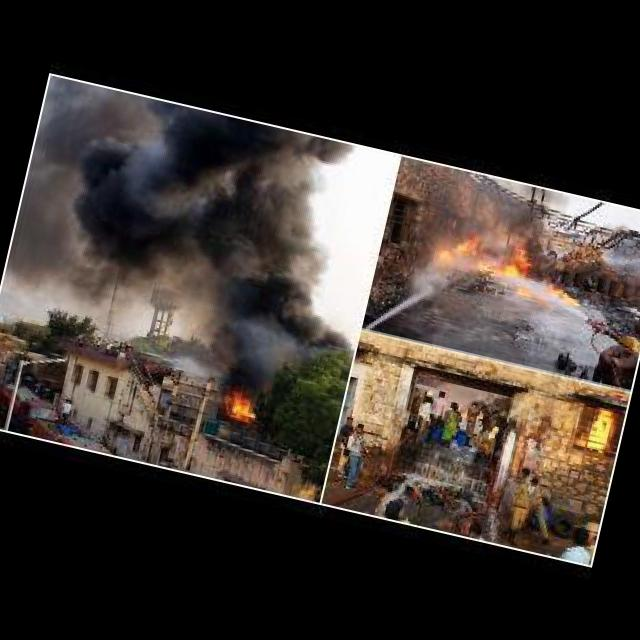Fire: (566, 400, 622, 457), (429, 216, 484, 274), (210, 378, 265, 424), (488, 238, 537, 282)
Smoke: (0, 69, 367, 390)
